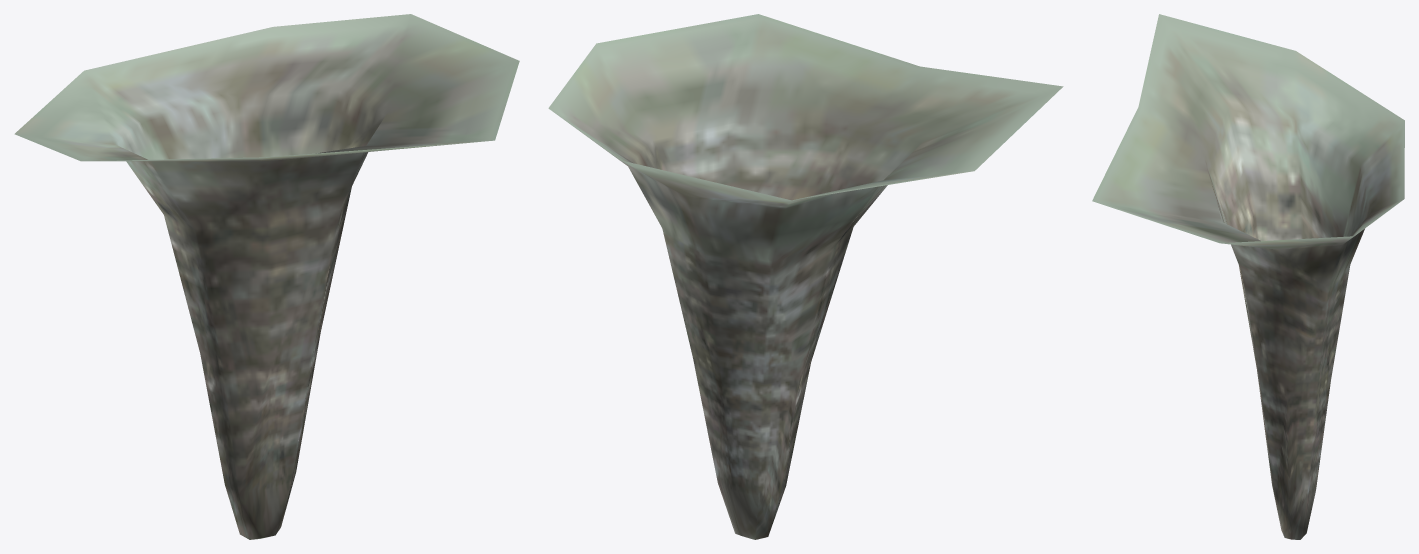
File: TROLLHOLE02_PS-MAINSTALAG69.fbx
3 views of the same model, side by side, from view 1: azimuth 30°, elevation 25°; view 2: azimuth 150°, elevation 25°; view 3: azimuth 270°, elevation 25° (orthographic). The views are drawn at different scales.
Visible parts, largest first — view 1: TROLLHOLE02_PS-MAINSTALAG69; view 2: TROLLHOLE02_PS-MAINSTALAG69; view 3: TROLLHOLE02_PS-MAINSTALAG69.
Part boxes in pixels (x1,y1,x2,y2): TROLLHOLE02_PS-MAINSTALAG69: (14,14,519,539); TROLLHOLE02_PS-MAINSTALAG69: (548,14,1063,539); TROLLHOLE02_PS-MAINSTALAG69: (1092,14,1404,539).
Size of the model in its own units: 25086 by 25223 by 17110.
1 material, 1 textured.
